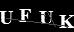F: (17, 8, 32, 22)
K: (58, 14, 74, 28)
U: (38, 10, 54, 25), (1, 10, 12, 24)
